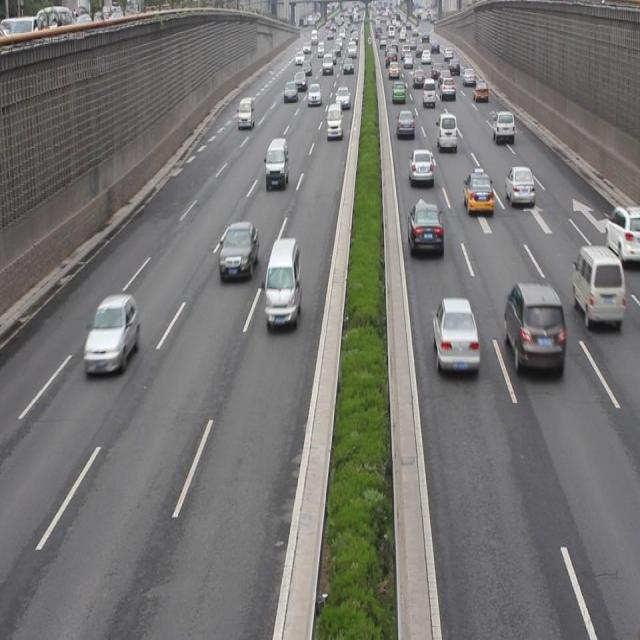car: (504, 281, 563, 379), (83, 296, 140, 377), (432, 298, 479, 374), (217, 222, 258, 281), (407, 201, 442, 256), (463, 169, 493, 215), (504, 166, 533, 207), (408, 148, 432, 186), (490, 108, 514, 146), (396, 108, 414, 139)
truck: (572, 247, 623, 330), (264, 237, 299, 325), (265, 138, 287, 190), (436, 112, 456, 150), (326, 102, 341, 140), (236, 98, 254, 127)
